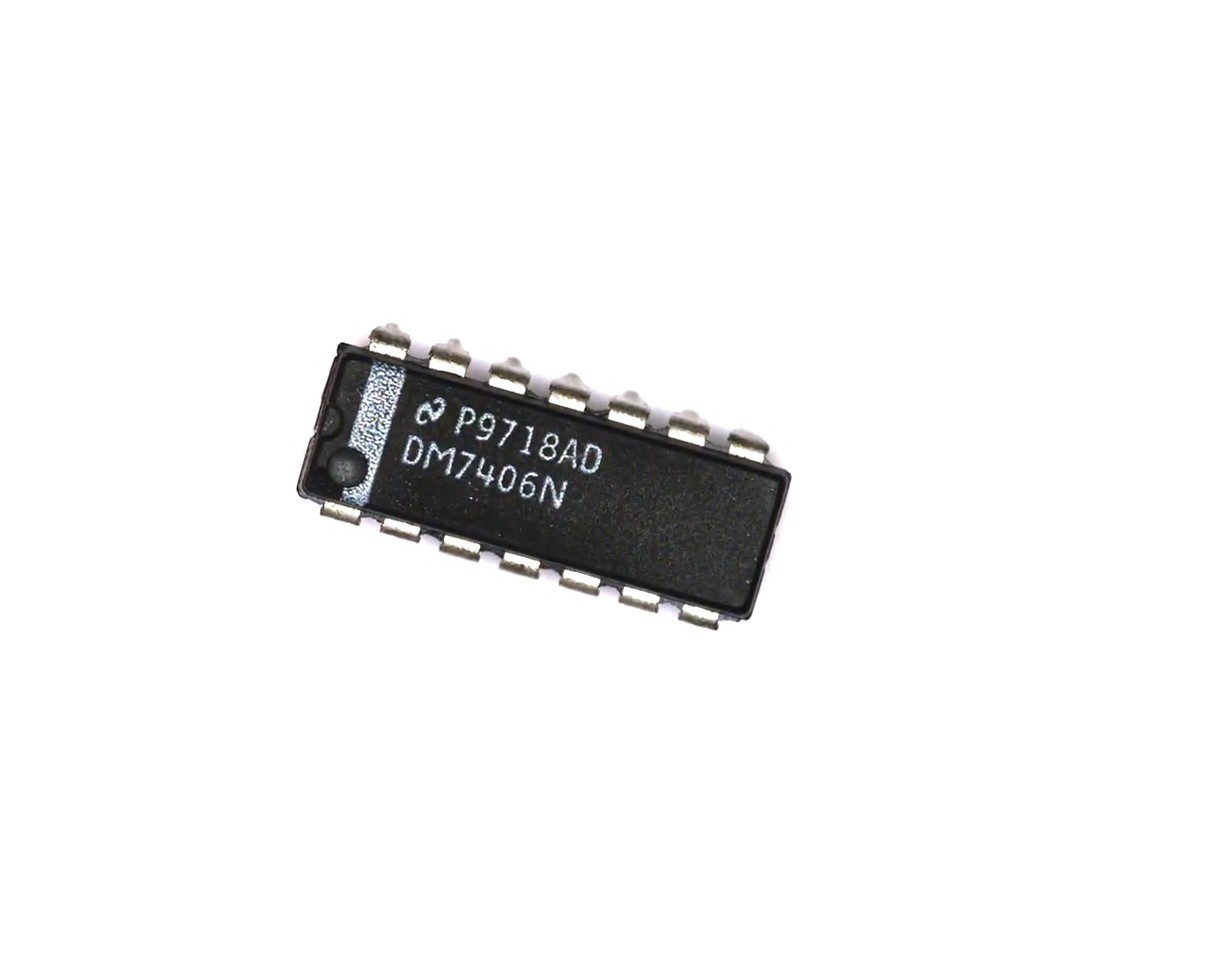IC: (279, 302, 812, 650)
notch: (310, 398, 353, 447)
